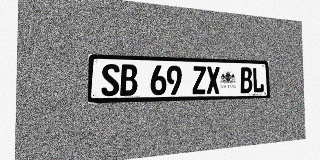6: (151, 65, 166, 95)
9: (167, 65, 182, 95)
B: (120, 64, 137, 96), (240, 67, 252, 93)
L: (252, 67, 264, 93)
S: (101, 64, 120, 96)
X: (206, 66, 220, 94)
Z: (192, 66, 206, 94)
